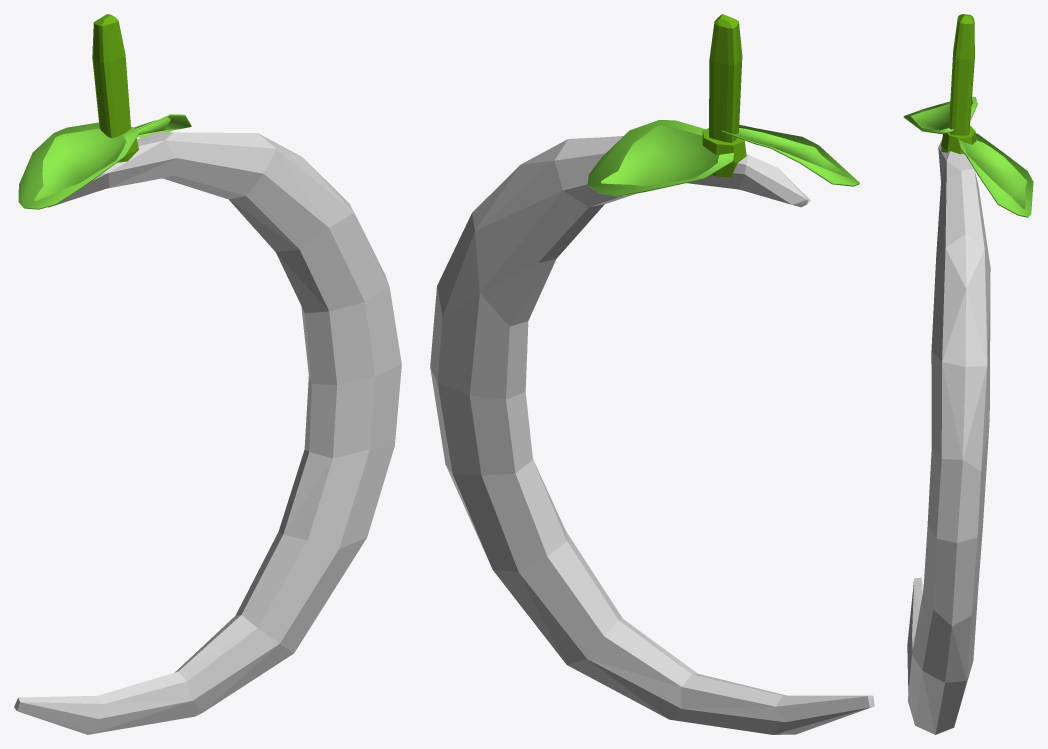
Rendered from moonBanana.fbx.
3 views of the same model, side by side, from view 1: azimuth 30°, elevation 25°; view 2: azimuth 150°, elevation 25°; view 3: azimuth 270°, elevation 25° (orthographic). The views are drawn at different scales.
Visible parts, largest first — view 1: Plane.001; view 2: Plane.001; view 3: Plane.001.
Part boxes in pixels (x1,y1,x2,y2): Plane.001: (14,14,401,734); Plane.001: (430,14,874,734); Plane.001: (903,14,1033,734).
Size of the model in its own units: 68.13 by 114 by 19.73.
